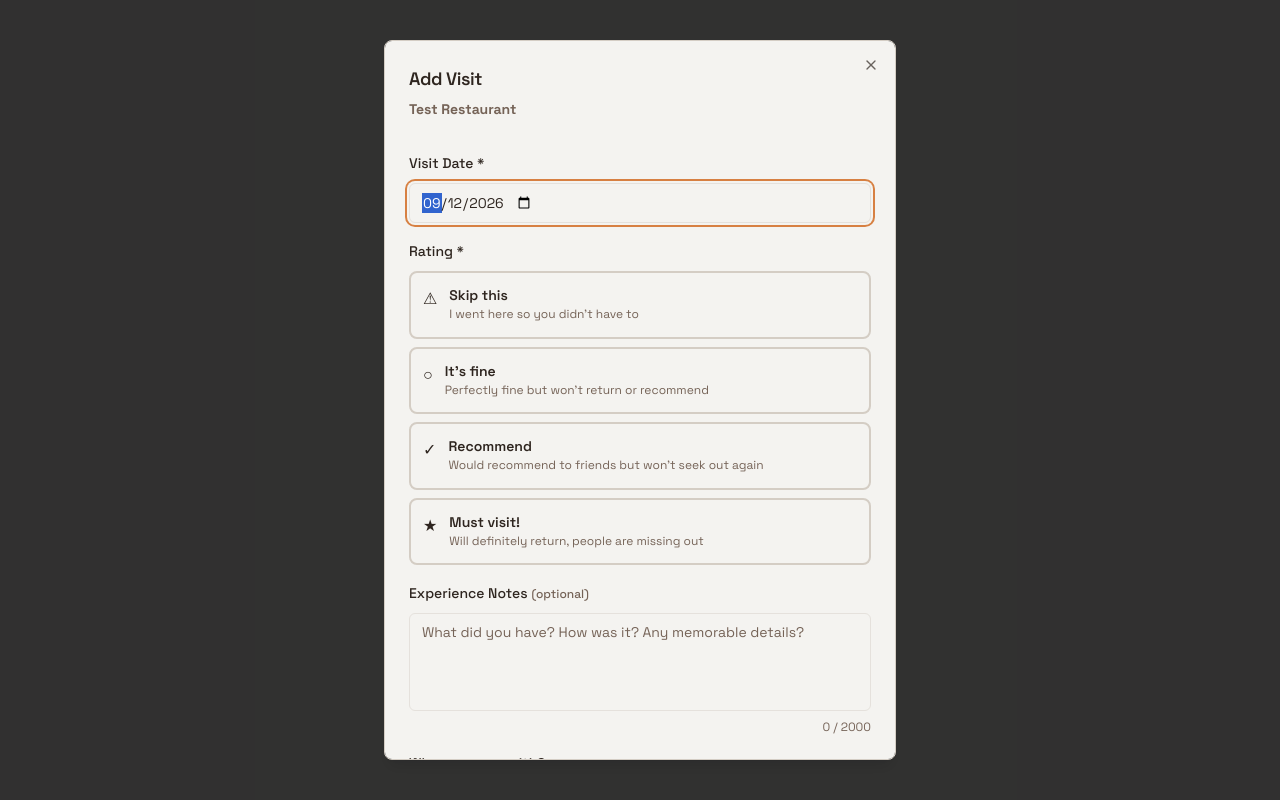
it: VisitModal › Form Submission › should show error message on submission failure
// Select rating
Click the text "Recommend" at [490, 446], box [448,437,532,455]
(page scrolled)
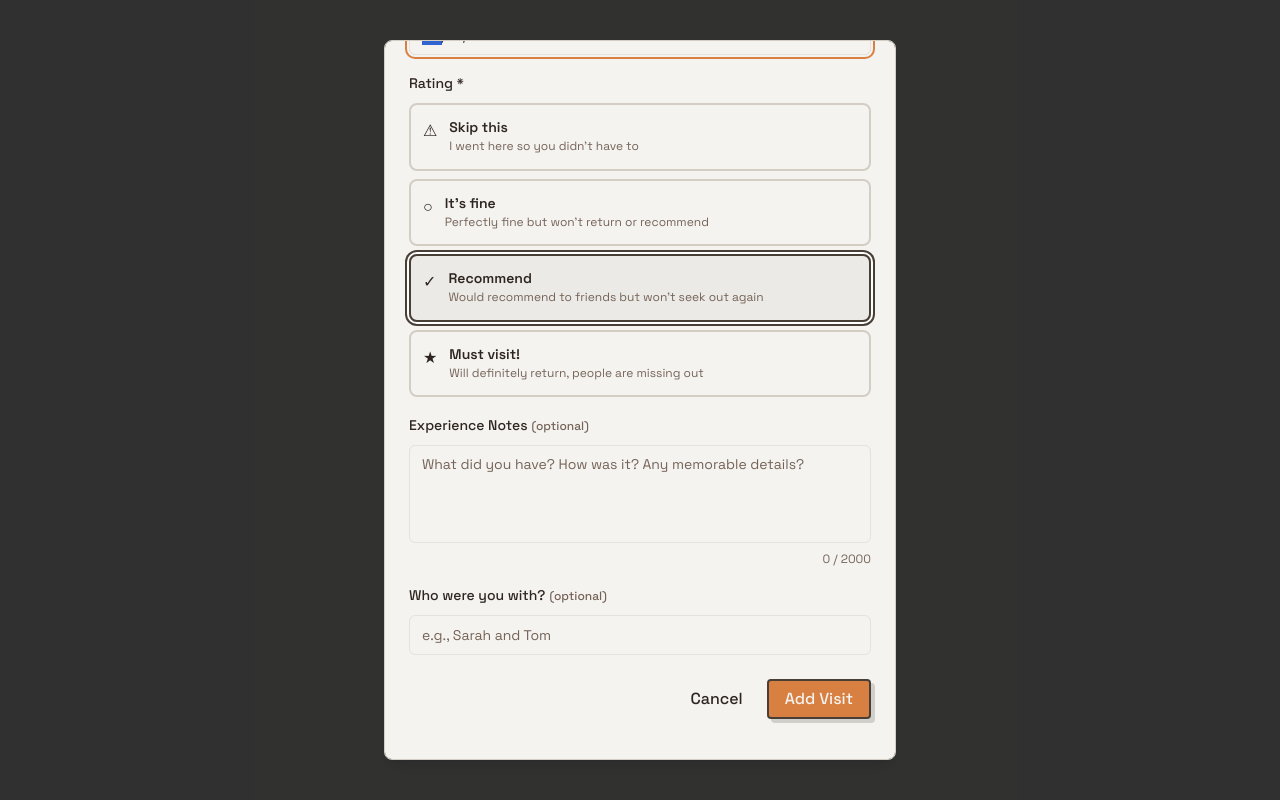
Click the button "Add Visit" at [819, 699], box [767,679,871,719]
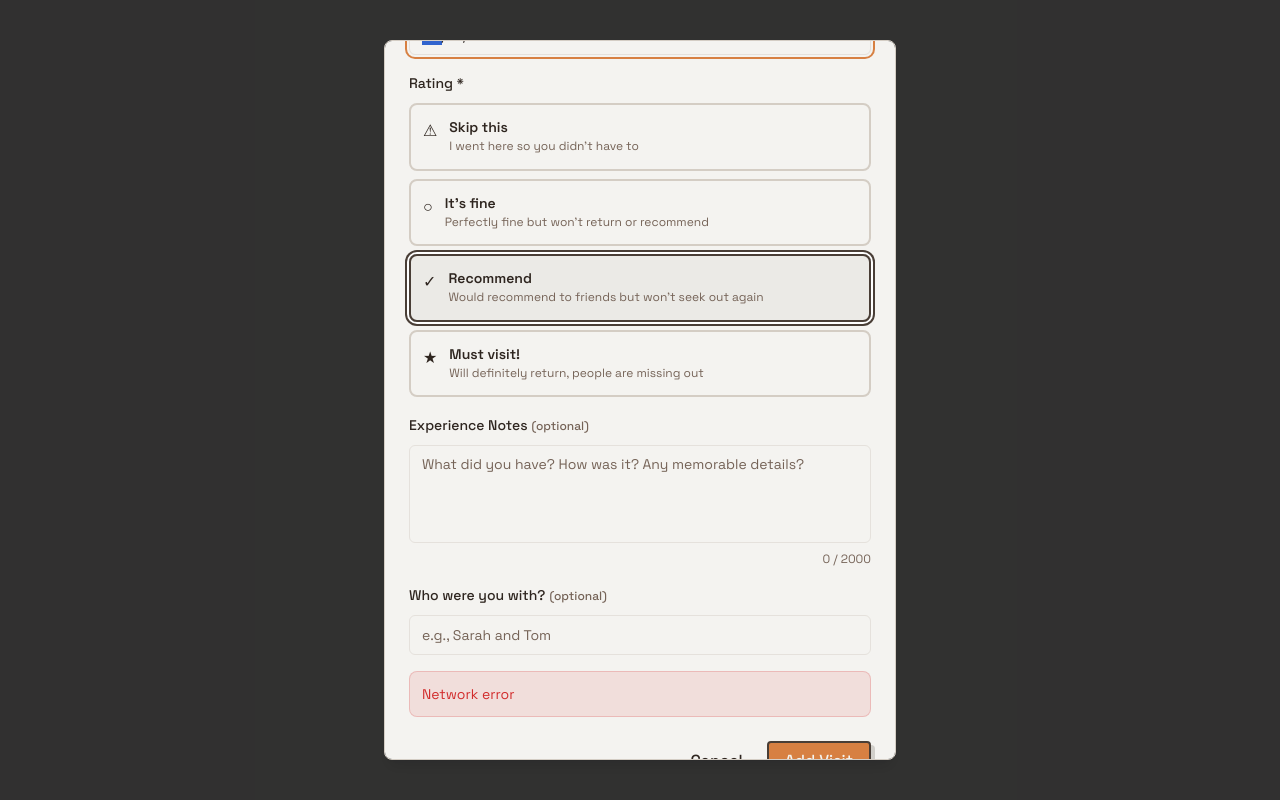
Now the text "Network error" is shown, box [422,685,514,703]
